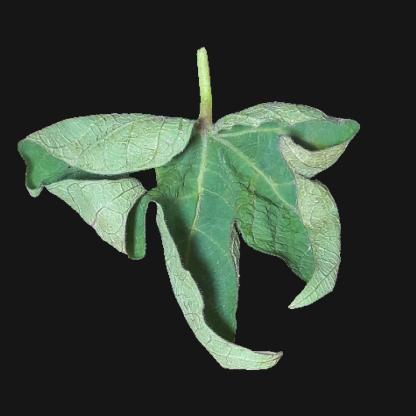curl_stage2: (84, 135, 196, 223), (257, 150, 331, 232), (183, 245, 240, 322), (243, 112, 314, 151), (294, 239, 340, 299)
